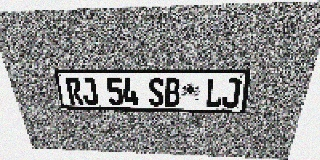4: (122, 78, 139, 106)
5: (106, 78, 124, 105)
B: (164, 78, 180, 107)
J: (221, 78, 242, 108), (80, 77, 99, 105)
L: (205, 78, 224, 107)
R: (65, 77, 84, 105)
S: (148, 78, 164, 106)
